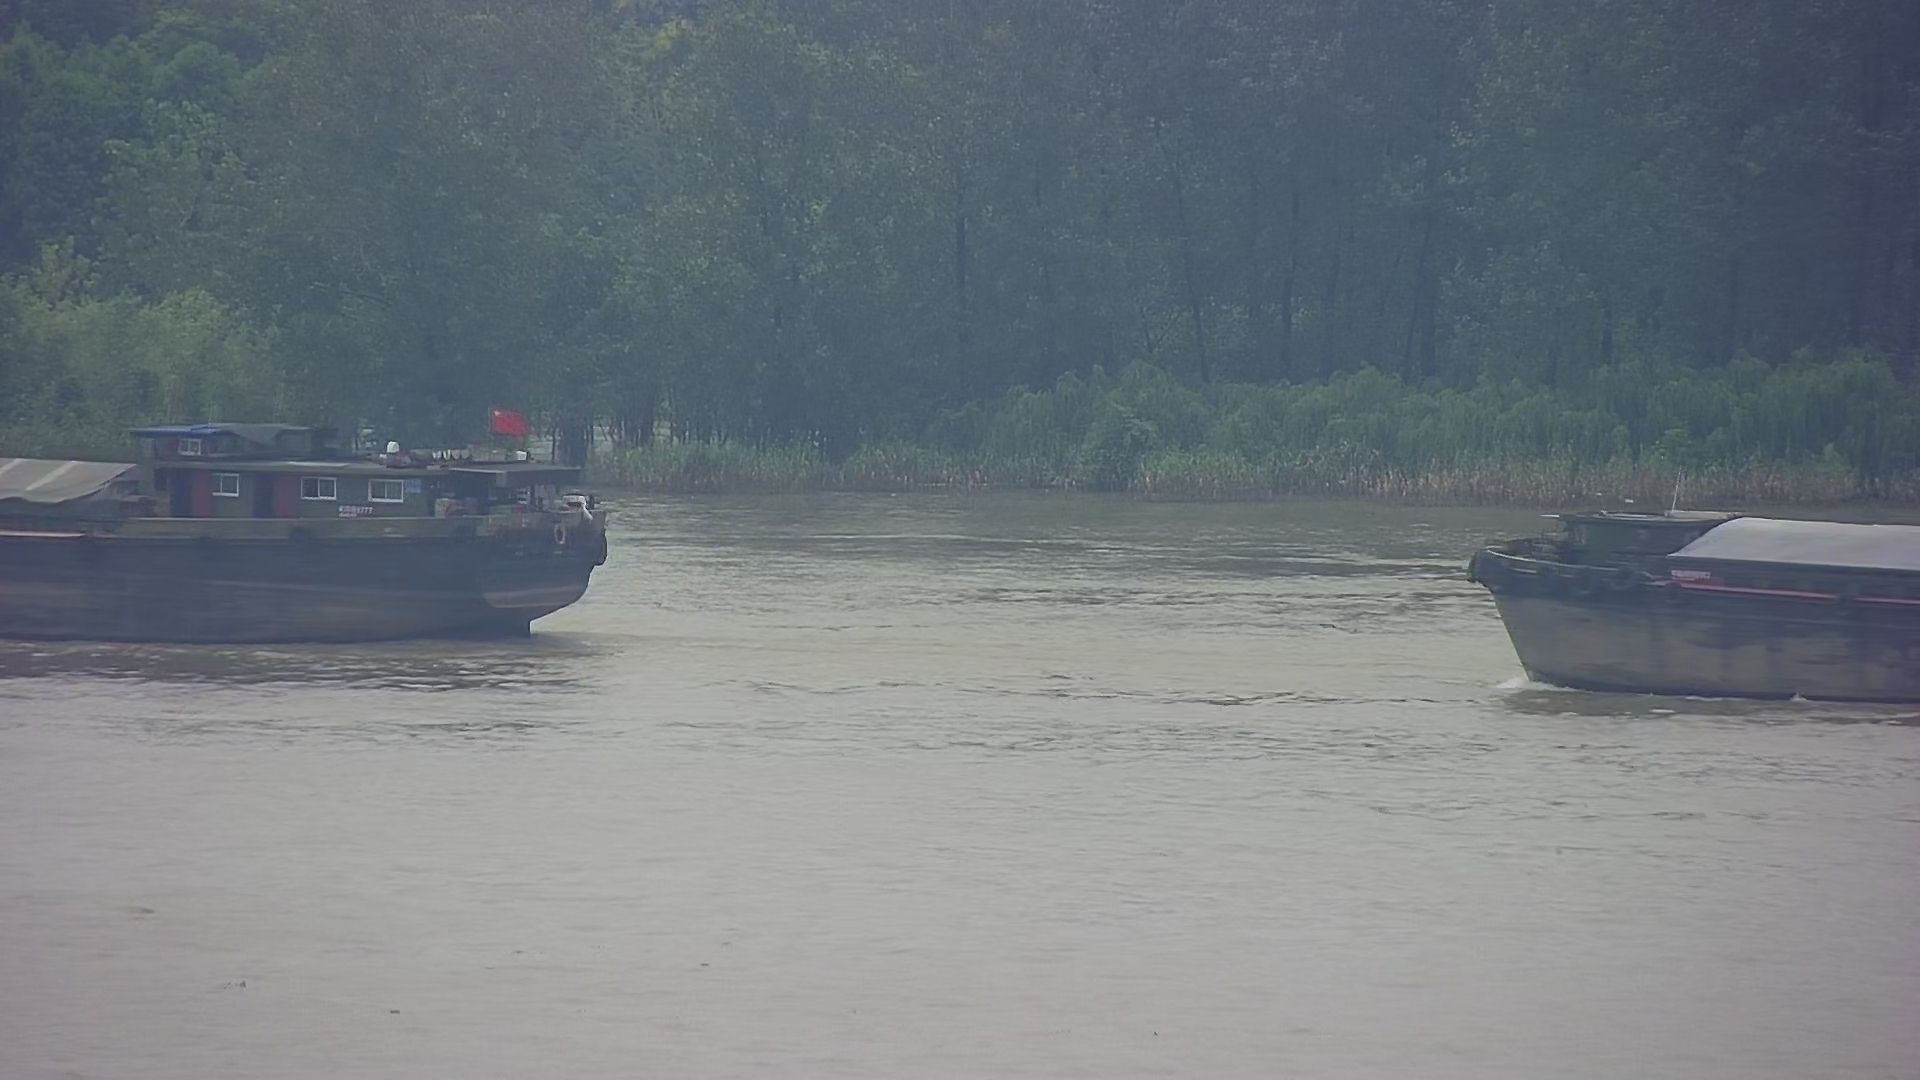ship: (1, 365, 647, 673), (1451, 487, 1919, 721)
